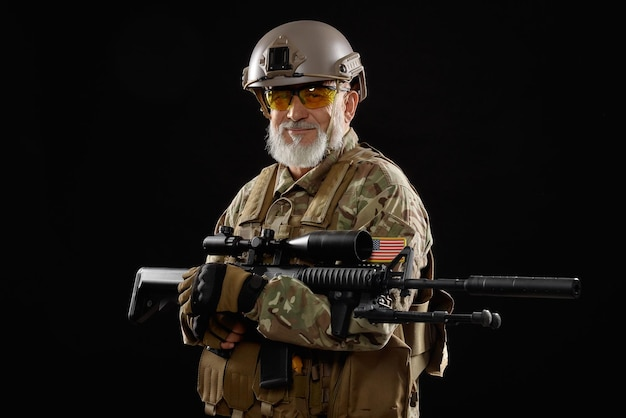gun: (125, 225, 581, 394)
